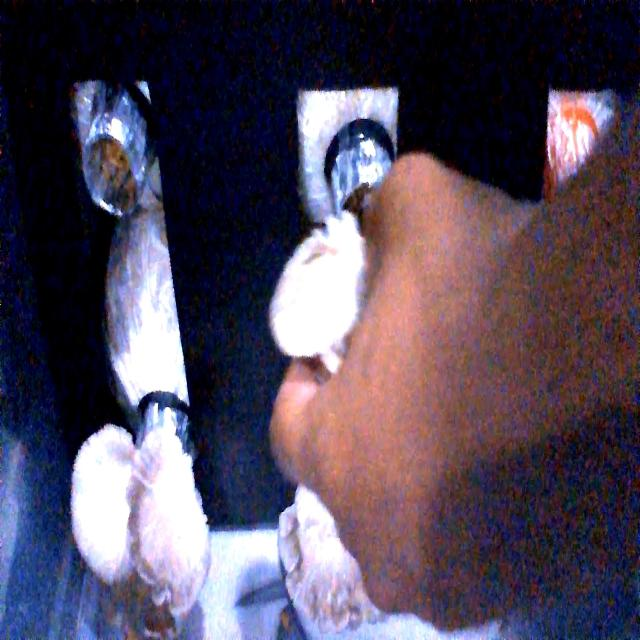big: (78, 425, 200, 597)
nfound: (78, 132, 148, 225)
